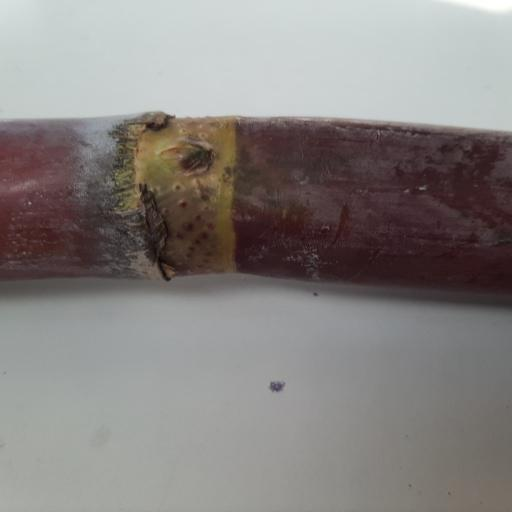Bud: (156, 138, 215, 177)
